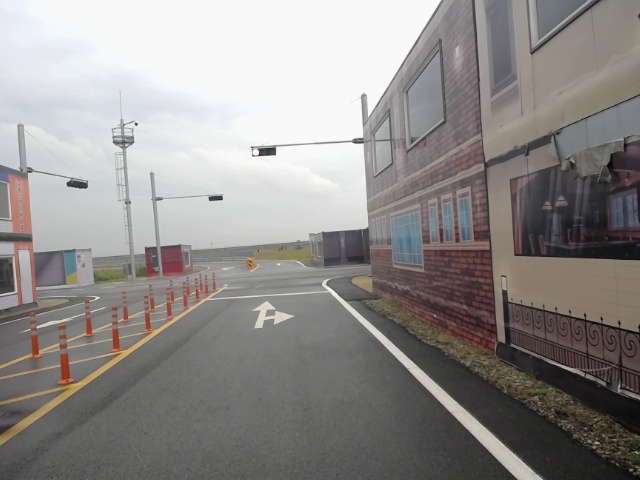red_3: (250, 145, 278, 157)
